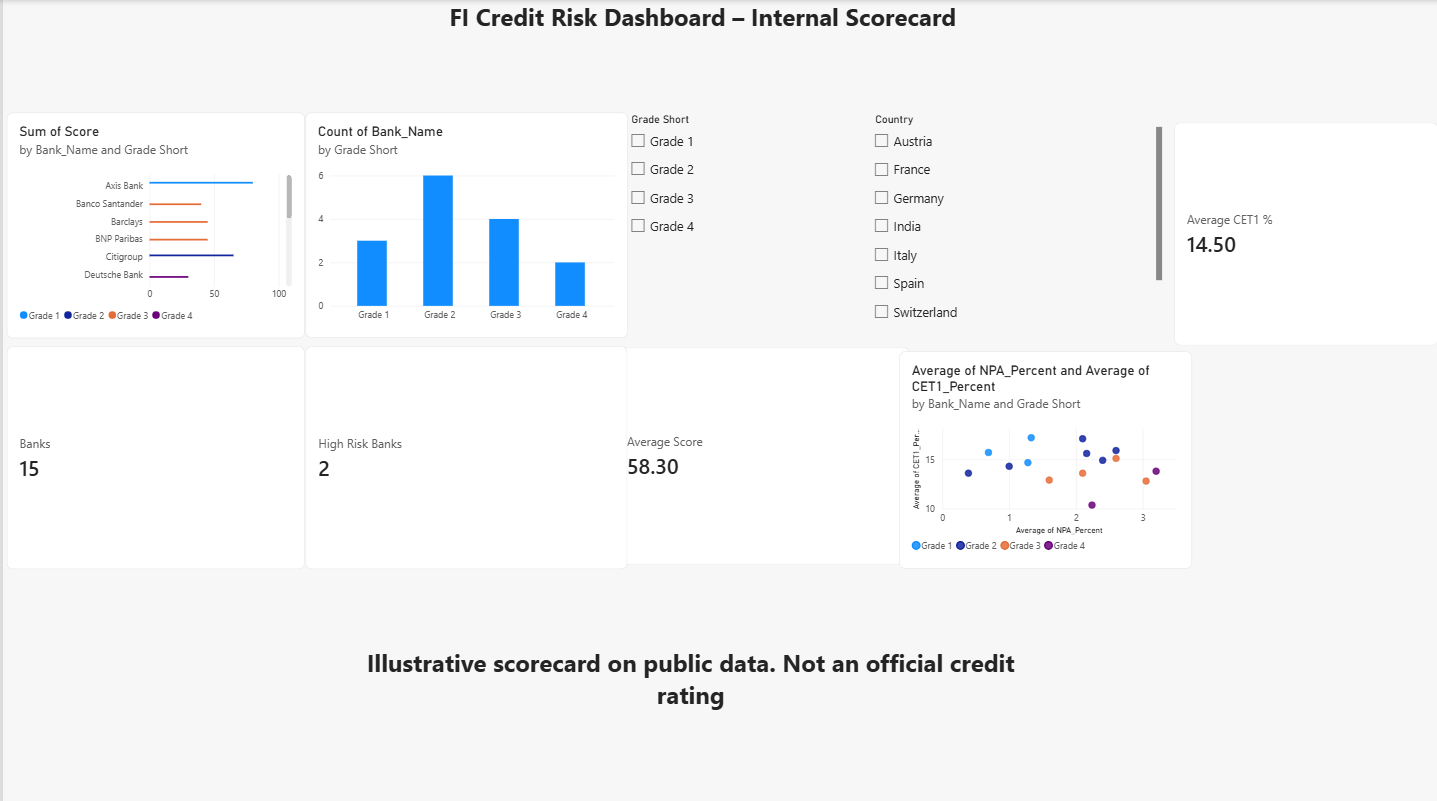

The dashboard page shown, as its layout file describes it:
{"tool":"powerbi","page":{"name":"Page 1","canvas":[1920,1080],"ordinal":0},"visuals":[{"type":"cardVisual","fields":{"Data":["scored_banks.Banks"]},"box":[5.1,462.1,398.3,298.7],"z":0},{"type":"cardVisual","fields":{"Data":["scored_banks.Average Score"]},"box":[817,464.7,395.2,290.2],"z":1000},{"type":"cardVisual","fields":{"Data":["scored_banks.Average CET1 %"]},"box":[1565.1,163.4,354.9,298.7],"z":2000},{"type":"cardVisual","fields":{"Data":["scored_banks.High Risk Banks"]},"box":[403.4,462.1,430.2,298.5],"z":3000},{"type":"clusteredBarChart","fields":{"Category":["scored_banks.Bank_Name"],"Series":["scored_banks.Grade Short"],"Y":["Sum(scored_banks.Score)"]},"box":[5.1,150.6,398.3,301.3],"z":4000},{"type":"clusteredColumnChart","fields":{"Category":["scored_banks.Grade Short"],"Y":["CountNonNull(scored_banks.Bank_Name)"]},"box":[403.4,150.6,430.2,300.5],"z":5000},{"type":"scatterChart","fields":{"Category":["scored_banks.Bank_Name"],"Series":["scored_banks.Grade Short"],"X":["Avg(scored_banks.NPA_Percent)"],"Y":["Avg(scored_banks.CET1_Percent)"]},"box":[1197.4,469.8,391.1,290.2],"z":6000},{"type":"slicer","fields":{"Values":["scored_banks.Country"]},"box":[1156.6,150.6,391.1,284],"z":7000},{"type":"slicer","fields":{"Values":["scored_banks.Grade Short"]},"box":[832.3,150.6,366.4,284],"z":8000},{"type":"textbox","box":[441.7,863,952.3,217],"z":12000},{"type":"textbox","box":[70,0,1729,72],"z":14001}]}

Visuals, with their boxes in screenshot pixels (x1, y1, x2, y2), scaled from the page's 1920x1080 canvas onto the 1437x801 screenshot:
cardVisual - scored_banks.Banks: bbox=[4, 343, 302, 564]
cardVisual - scored_banks.Average Score: bbox=[611, 345, 907, 560]
cardVisual - scored_banks.Average CET1 %: bbox=[1171, 121, 1436, 343]
cardVisual - scored_banks.High Risk Banks: bbox=[302, 343, 624, 564]
clusteredBarChart - scored_banks.Bank_Name x scored_banks.Grade Short: bbox=[4, 112, 302, 335]
clusteredColumnChart - scored_banks.Grade Short x CountNonNull(scored_banks.Bank_Name): bbox=[302, 112, 624, 335]
scatterChart - scored_banks.Bank_Name x scored_banks.Grade Short: bbox=[896, 348, 1189, 564]
slicer - scored_banks.Country: bbox=[866, 112, 1158, 322]
slicer - scored_banks.Grade Short: bbox=[623, 112, 897, 322]
textbox: bbox=[331, 640, 1043, 800]
textbox: bbox=[52, 0, 1346, 53]
